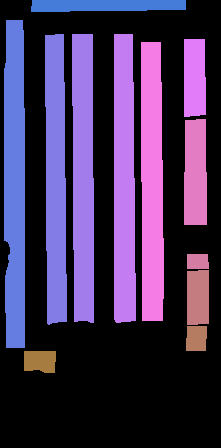parkingspot: (4, 20, 24, 347), (141, 42, 163, 320), (45, 34, 66, 324), (114, 34, 135, 322), (72, 34, 93, 322), (184, 119, 206, 224), (31, 0, 185, 11), (184, 39, 205, 116), (187, 270, 208, 324), (24, 351, 55, 372), (186, 326, 206, 350), (187, 254, 208, 268)
